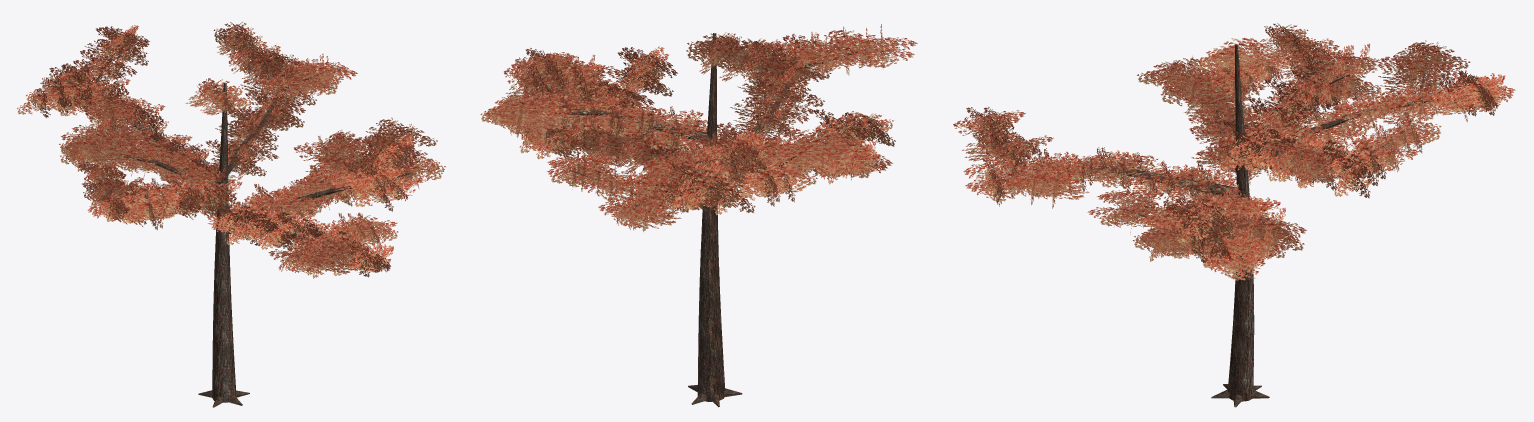
Rendered from tree_3d_05_copper_lod0.glb.
3 views of the same model, side by side, from view 1: azimuth 30°, elevation 25°; view 2: azimuth 150°, elevation 25°; view 3: azimuth 270°, elevation 25° (orthographic). The views are drawn at different scales.
Parts seen in each view (by area): view 1: foliage_cards, wood_geometry; view 2: foliage_cards, wood_geometry; view 3: foliage_cards, wood_geometry.
Part boxes in pixels (x1,y1,x2,y2): foliage_cards: (17, 21, 445, 278); wood_geometry: (53, 48, 410, 407); foliage_cards: (480, 24, 917, 231); wood_geometry: (536, 33, 874, 407); foliage_cards: (953, 23, 1515, 280); wood_geometry: (988, 44, 1484, 407).
Size of the model in its own units: 9.84 by 8.94 by 12.95.
Materials: 2 (2 with a texture image).
